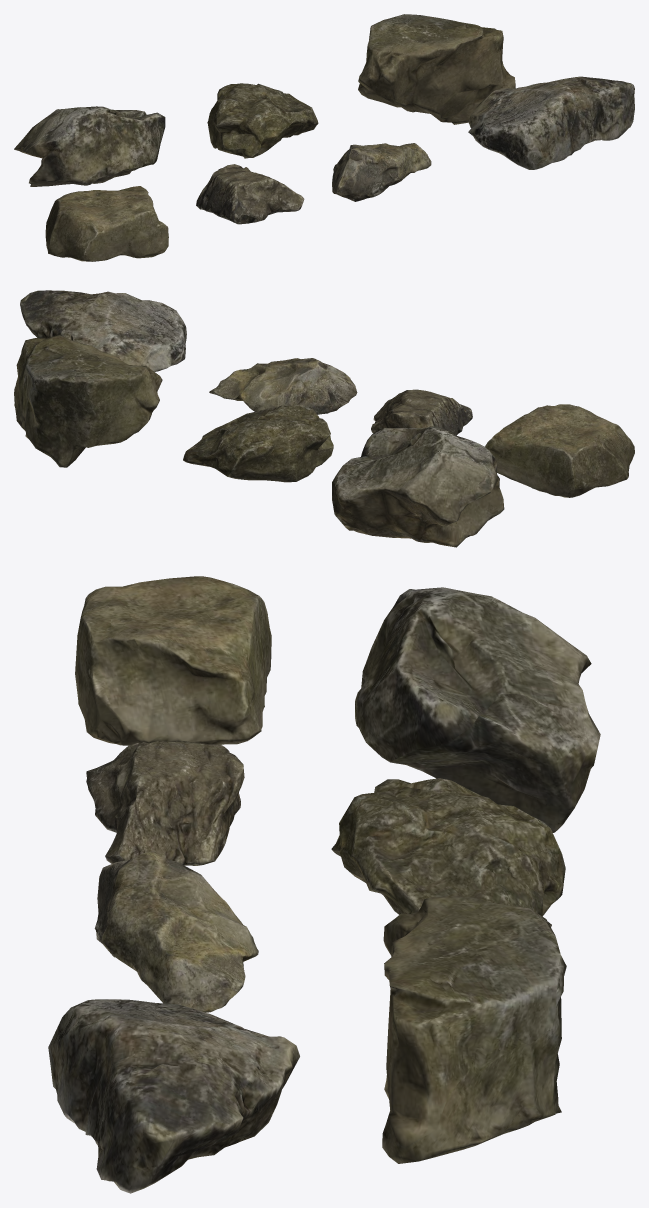
Rendered from rock_moss_set_02_lo.glb.
The picture shows the model from 3 angles, top to bottom: view 1: azimuth 30°, elevation 25°; view 2: azimuth 150°, elevation 25°; view 3: azimuth 270°, elevation 25°; orthographic projection. The views are drawn at different scales.
Visible parts, largest first — view 1: rock_moss_set_02_rock13, rock_moss_set_02_rock10, rock_moss_set_02_rock11, rock_moss_set_02_rock07, rock_moss_set_02_rock12, rock_moss_set_02_rock08, rock_moss_set_02_rock09; view 2: rock_moss_set_02_rock11, rock_moss_set_02_rock13, rock_moss_set_02_rock07, rock_moss_set_02_rock10, rock_moss_set_02_rock12, rock_moss_set_02_rock09, rock_moss_set_02_rock08; view 3: rock_moss_set_02_rock13, rock_moss_set_02_rock11, rock_moss_set_02_rock10, rock_moss_set_02_rock07, rock_moss_set_02_rock12, rock_moss_set_02_rock09, rock_moss_set_02_rock08.
Part boxes in pixels (left/top/right/bottom): rock_moss_set_02_rock13: left=358, top=14, right=515, bottom=124; rock_moss_set_02_rock10: left=468, top=76, right=634, bottom=169; rock_moss_set_02_rock11: left=14, top=106, right=165, bottom=186; rock_moss_set_02_rock07: left=45, top=186, right=168, bottom=261; rock_moss_set_02_rock12: left=207, top=83, right=318, bottom=158; rock_moss_set_02_rock08: left=196, top=164, right=304, bottom=224; rock_moss_set_02_rock09: left=332, top=143, right=431, bottom=201; rock_moss_set_02_rock11: left=332, top=426, right=504, bottom=547; rock_moss_set_02_rock13: left=14, top=335, right=162, bottom=467; rock_moss_set_02_rock07: left=485, top=404, right=634, bottom=497; rock_moss_set_02_rock10: left=20, top=290, right=186, bottom=371; rock_moss_set_02_rock12: left=183, top=405, right=333, bottom=482; rock_moss_set_02_rock09: left=209, top=358, right=357, bottom=414; rock_moss_set_02_rock08: left=371, top=389, right=472, bottom=435; rock_moss_set_02_rock13: left=382, top=897, right=566, bottom=1163; rock_moss_set_02_rock11: left=355, top=587, right=600, bottom=832; rock_moss_set_02_rock10: left=48, top=999, right=299, bottom=1193; rock_moss_set_02_rock07: left=75, top=576, right=271, bottom=745; rock_moss_set_02_rock12: left=331, top=778, right=565, bottom=926; rock_moss_set_02_rock09: left=94, top=851, right=258, bottom=1012; rock_moss_set_02_rock08: left=86, top=741, right=244, bottom=865.
Size of the model in its own units: 8.28 by 1.34 by 3.4.
1 material, 1 textured.
